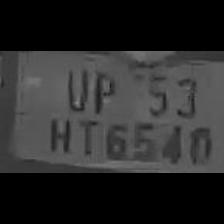0: (183, 119, 215, 163)
3: (170, 70, 200, 119)
4: (154, 118, 184, 164)
5: (139, 63, 169, 117), (128, 116, 158, 162)
6: (100, 118, 128, 160)
N: (46, 112, 72, 152)
P: (88, 67, 118, 113)
T: (73, 117, 99, 158)
U: (60, 62, 90, 112)
